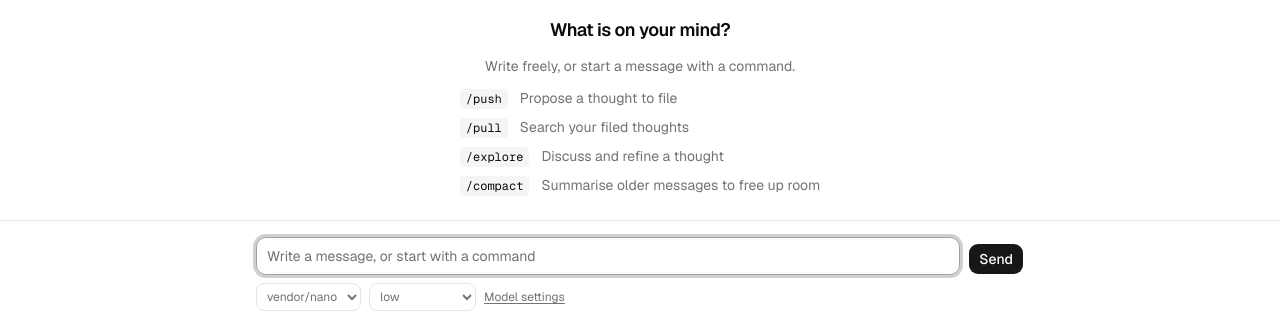
Chat › sending › adds the user's message, clears the input, and sends the message
This screenshot has width=1280, height=328.
In the text box labelled "message": [608, 256] box [256, 237, 960, 275], type "buy oat milk"
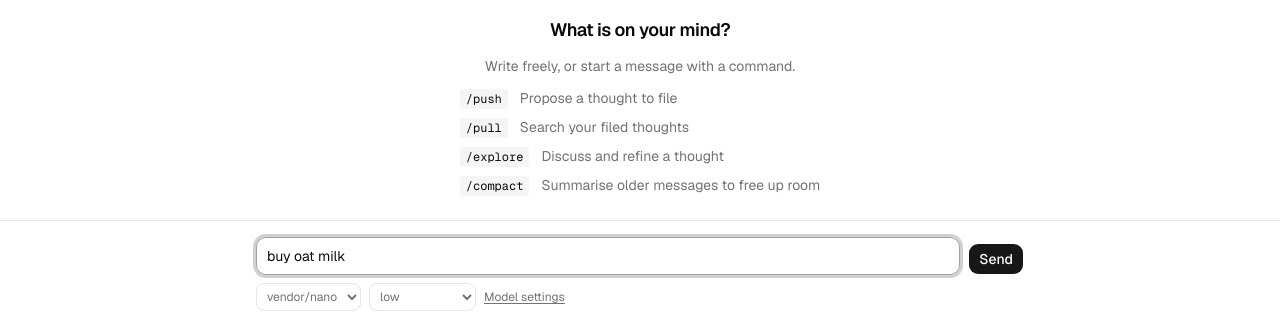
Click the button "Send": [996, 259] box [968, 243, 1024, 275]
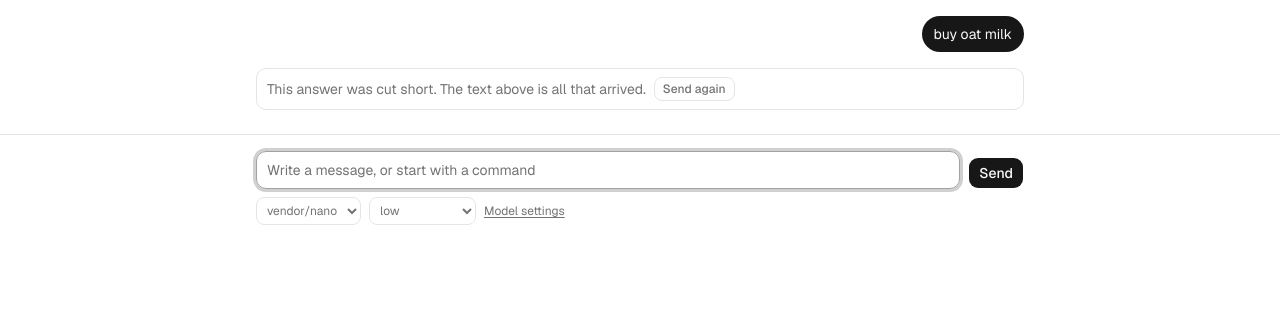
Expected: the text "buy oat milk" is shown, [922, 16, 1024, 52]
Expected: the text box labelled "message" is empty, [256, 151, 960, 189]
